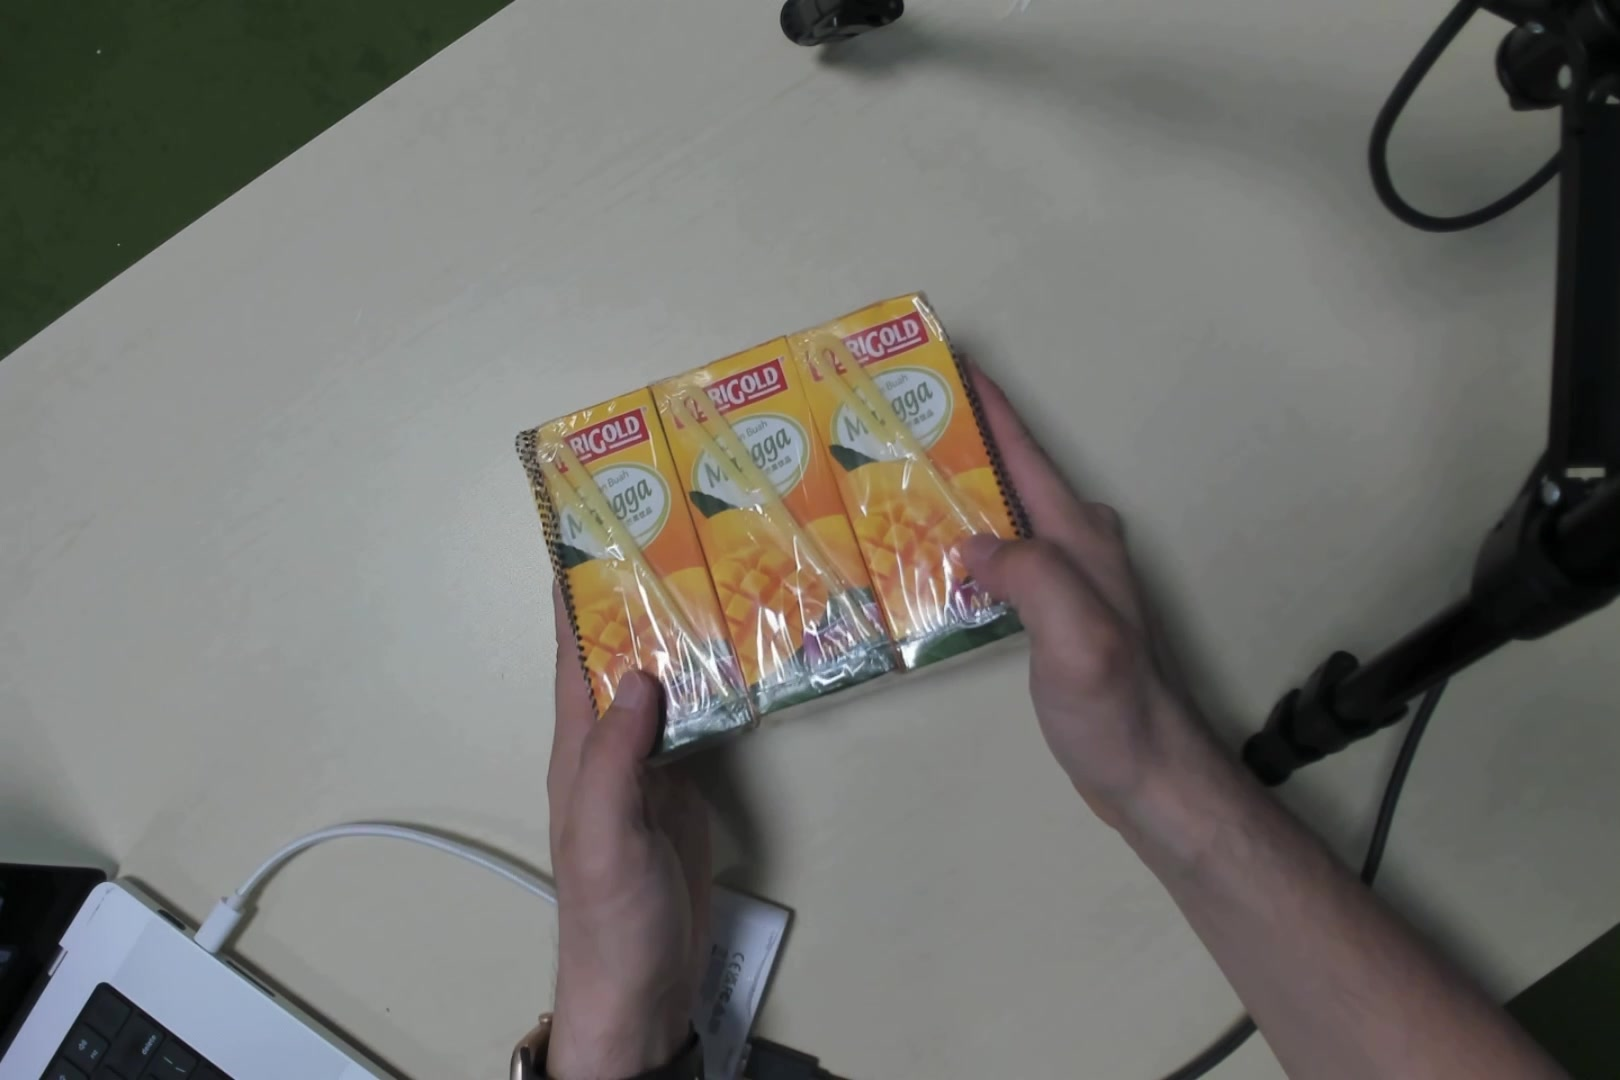FruitJuice_700-799g_Halal_NonHealthy: (540, 288, 1012, 724)
